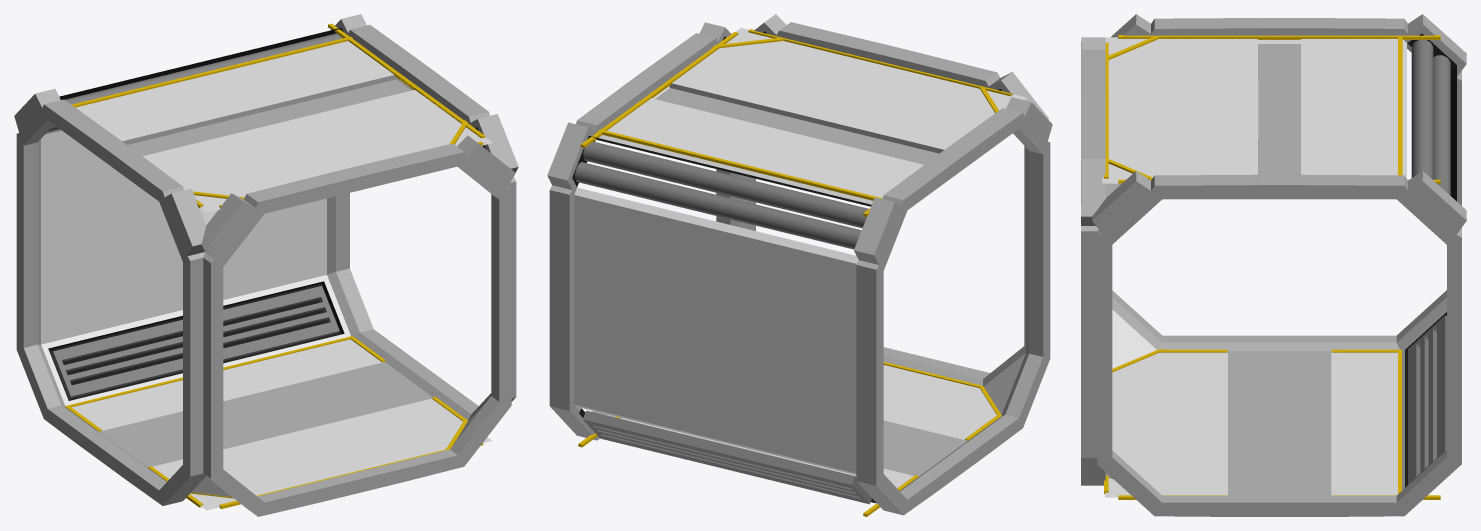
The model's file is Corridor_Intersection.fbx.
The picture shows the model from 3 angles, left to right: view 1: azimuth 30°, elevation 25°; view 2: azimuth 150°, elevation 25°; view 3: azimuth 270°, elevation 25°; orthographic projection. The views are drawn at different scales.
Visible parts, largest first — view 1: Couloir_Intersection_T, Corridor_Intersection_Lights.003; view 2: Couloir_Intersection_T, Corridor_Intersection_Lights.003; view 3: Couloir_Intersection_T, Corridor_Intersection_Lights.003.
Boxes of the visible parts, bbox=[...] form: Couloir_Intersection_T: bbox=[14, 14, 518, 516]; Corridor_Intersection_Lights.003: bbox=[65, 23, 485, 508]; Couloir_Intersection_T: bbox=[547, 14, 1052, 515]; Corridor_Intersection_Lights.003: bbox=[578, 29, 1012, 516]; Couloir_Intersection_T: bbox=[1081, 14, 1466, 516]; Corridor_Intersection_Lights.003: bbox=[1104, 35, 1440, 499].
Size of the model in its own units: 457 by 428 by 446.
